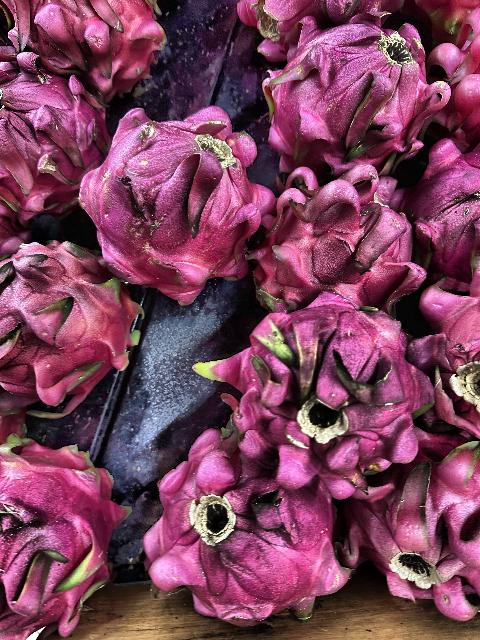buah-naga-matang: (215, 271, 451, 499), (144, 428, 354, 632), (89, 104, 255, 300), (0, 426, 136, 640), (255, 154, 436, 312), (270, 13, 436, 171), (344, 448, 480, 636), (0, 238, 142, 410), (0, 52, 106, 224), (6, 0, 158, 82), (414, 280, 480, 442), (408, 150, 480, 286)
